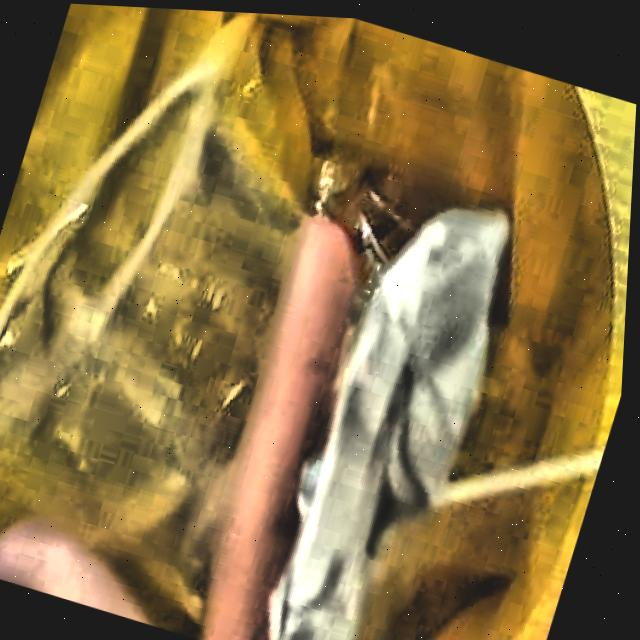plastic: (0, 12, 313, 606)
